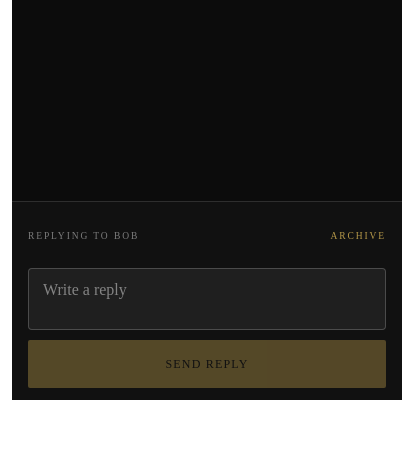
Test: ConversationScreen › blocks the other participant from the overflow menu and shows the blocked notice
The image size is (402, 461).
(page scrolled)
Click the button named "More options": (34,422) [12,400,56,444]
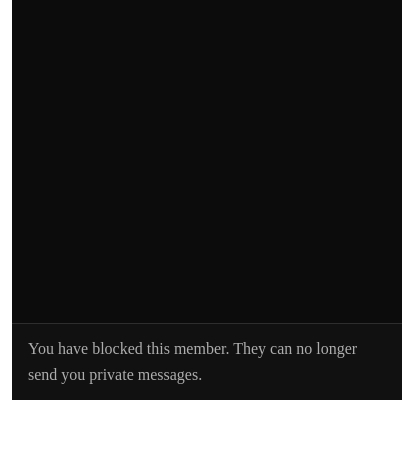
expect the text labelled "REPLY" is gone: met
expect the text "You have blocked this member. They can no longer send you private messages." is shown: met, box [28,336,386,388]
